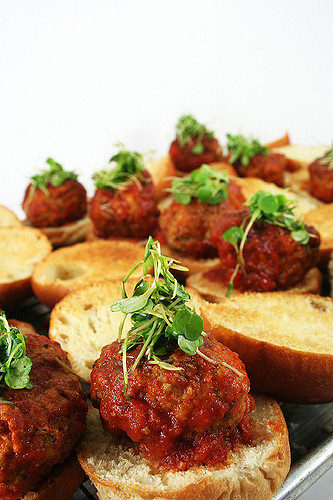meatballs: (96, 328, 237, 449), (170, 171, 237, 244), (74, 171, 143, 225)
slice of bread: (56, 255, 106, 340)
